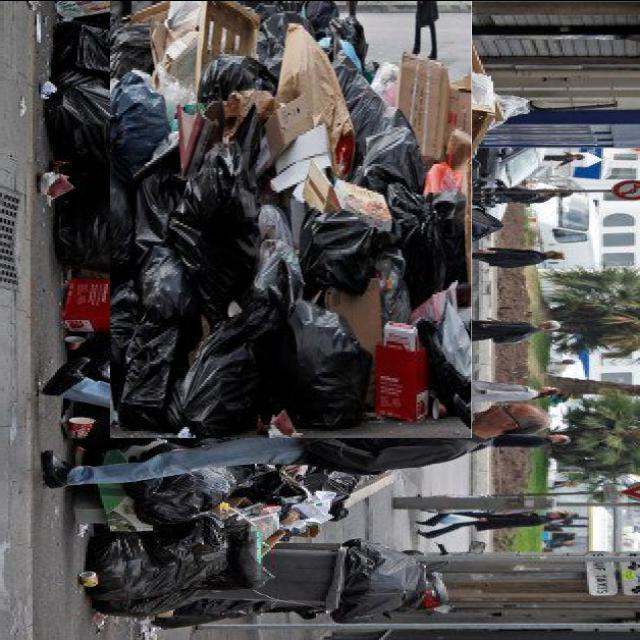Trashbag: (171, 290, 293, 442), (172, 140, 264, 300), (96, 286, 188, 432), (281, 299, 381, 432), (44, 182, 143, 282), (85, 522, 186, 620), (298, 202, 388, 294), (177, 512, 263, 608), (106, 63, 176, 178), (388, 180, 456, 298), (49, 71, 115, 186), (127, 463, 240, 524), (356, 121, 426, 198), (193, 52, 279, 112), (331, 59, 394, 134)
